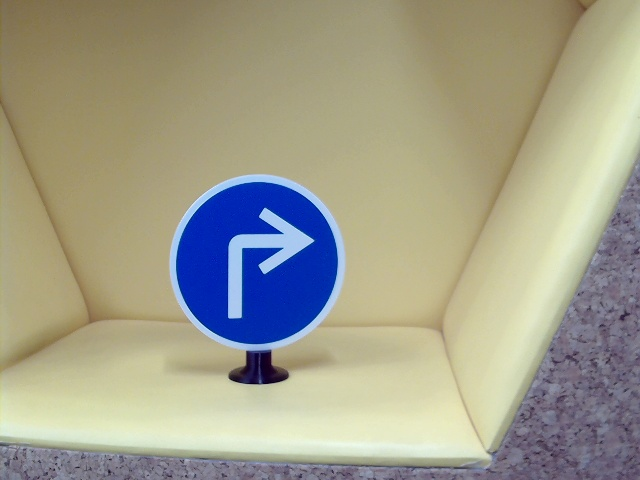turn_right: (215, 218, 311, 319)
